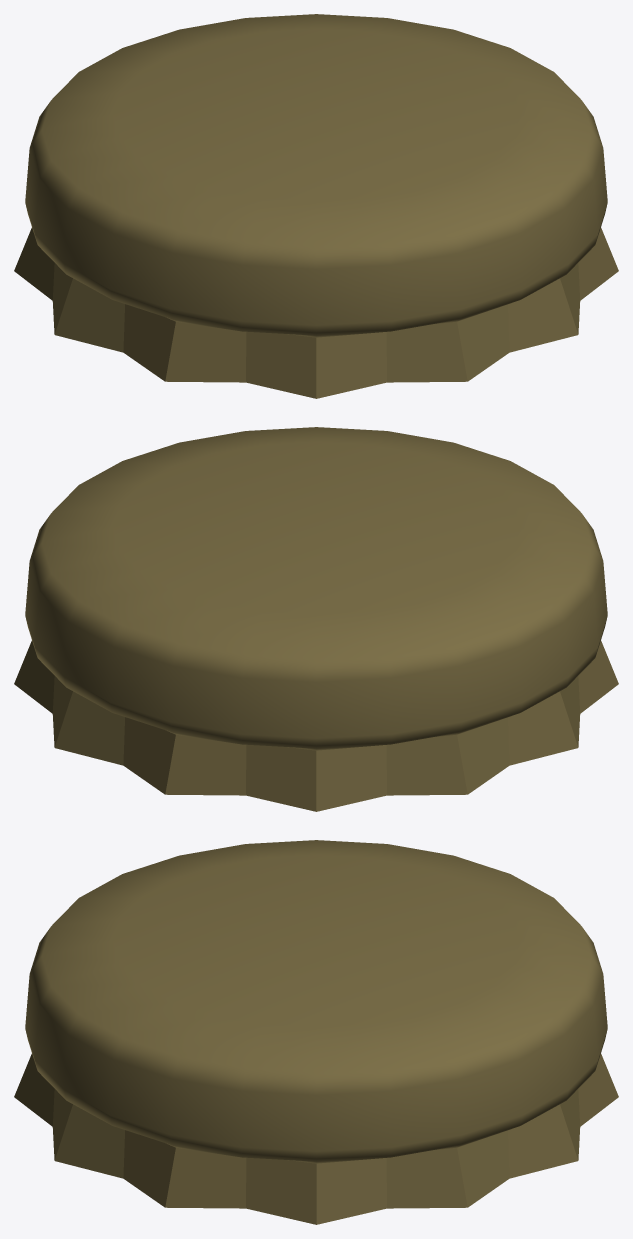
The model's file is BottleCap.fbx.
3 renders of one model, top to bottom at view 1: azimuth 30°, elevation 25°; view 2: azimuth 150°, elevation 25°; view 3: azimuth 270°, elevation 25°, orthographic.
Visible parts, largest first — view 1: Bottle_Cap1; view 2: Bottle_Cap1; view 3: Bottle_Cap1.
Boxes of the visible parts, bbox=[...] form: Bottle_Cap1: bbox=[14, 14, 618, 398]; Bottle_Cap1: bbox=[14, 427, 618, 811]; Bottle_Cap1: bbox=[14, 840, 618, 1224].
Size of the model in its own units: 20.88 by 5.94 by 20.88.
